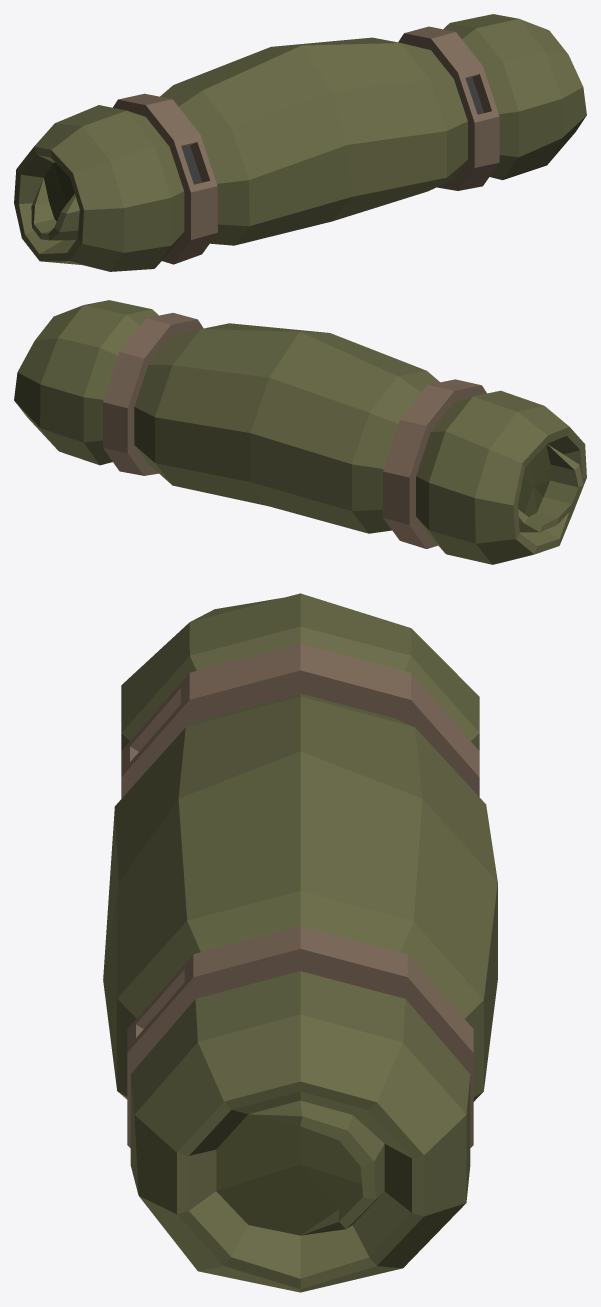
File: model_sleeping_bag_roll.fbx
3 views of the same model, one above another, from view 1: azimuth 30°, elevation 25°; view 2: azimuth 150°, elevation 25°; view 3: azimuth 270°, elevation 25° (orthographic). The views are drawn at different scales.
Parts seen in each view (by area): view 1: model_sleeping_bag_roll; view 2: model_sleeping_bag_roll; view 3: model_sleeping_bag_roll.
Boxes of the visible parts, x1,y1,x2,y2 form: model_sleeping_bag_roll: [14, 14, 586, 271]; model_sleeping_bag_roll: [14, 300, 586, 564]; model_sleeping_bag_roll: [103, 593, 497, 1292].
Bounding box in the file's own units: 123 × 38.53 × 40.22.
1 material, 1 textured.
